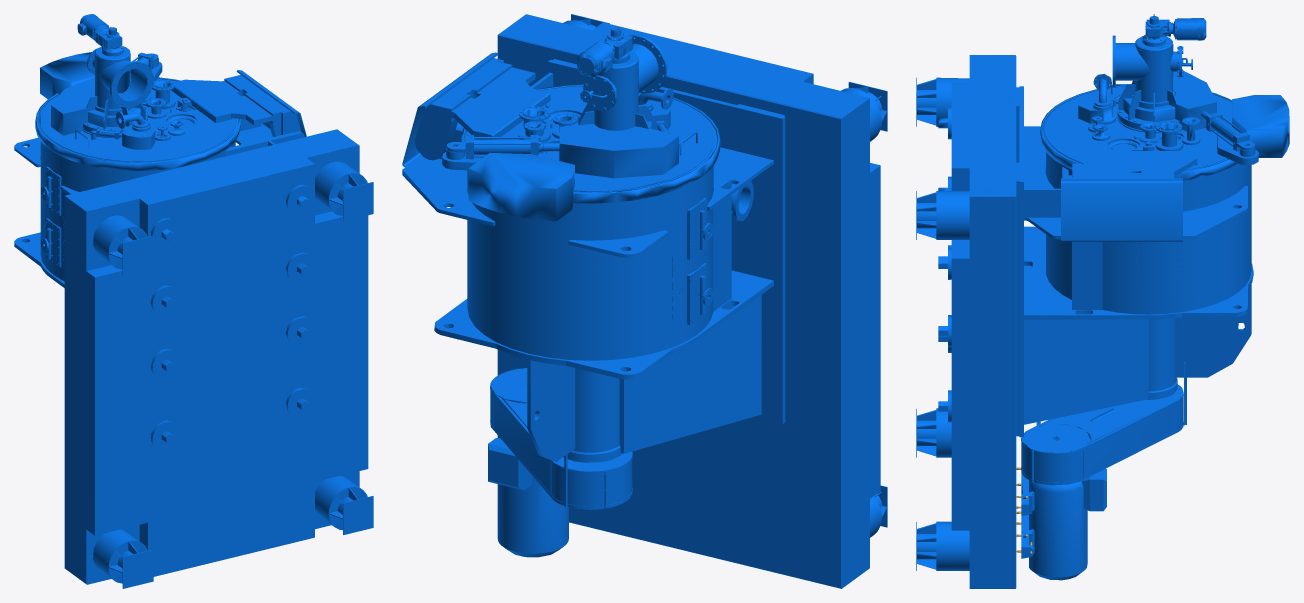
3 renders of one model, left to right at view 1: azimuth 30°, elevation 25°; view 2: azimuth 150°, elevation 25°; view 3: azimuth 270°, elevation 25°, orthographic. The views are drawn at different scales.
Parts seen in each view (by area): view 1: SOLID; view 2: SOLID; view 3: SOLID.
Boxes of the visible parts, box(x1,y1,x2,y2) form: SOLID: box(14, 14, 373, 588); SOLID: box(402, 14, 887, 588); SOLID: box(916, 14, 1289, 588).
Bounding box in the file's own units: 3.6 × 5.95 × 4.04.
1 material, 1 textured.
